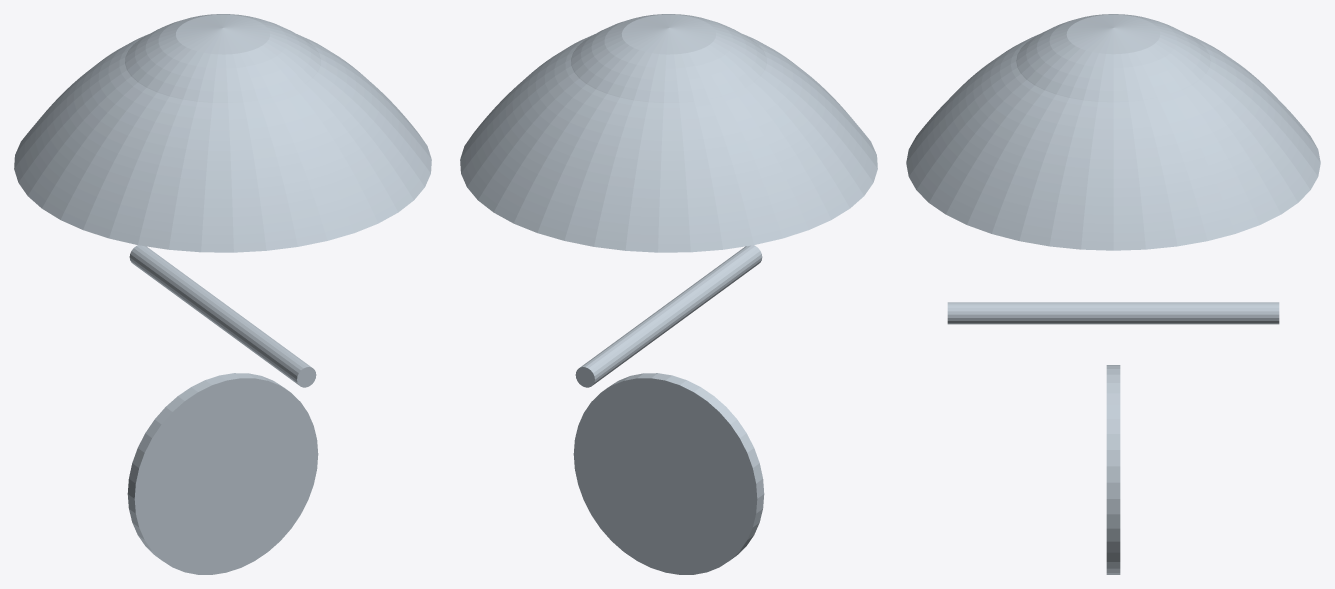
The model's file is 1789180025021_Margarita_Glass_glb.glb.
3 views of the same model, side by side, from view 1: azimuth 30°, elevation 25°; view 2: azimuth 150°, elevation 25°; view 3: azimuth 270°, elevation 25° (orthographic).
Parts seen in each view (by area): view 1: world; view 2: world; view 3: world.
Boxes of the visible parts, x1,y1,x2,y2 form: world: [14, 14, 431, 574]; world: [460, 14, 877, 574]; world: [906, 14, 1320, 574].
Size of the model in its own units: 0.15 by 0.2145 by 0.15.
